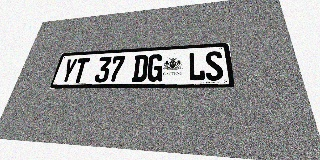3: (94, 57, 112, 83)
7: (107, 56, 125, 82)
D: (131, 55, 149, 82)
G: (146, 54, 163, 82)
L: (188, 52, 205, 81)
S: (205, 51, 224, 81)
T: (71, 58, 90, 83)
Y: (59, 58, 78, 83)
